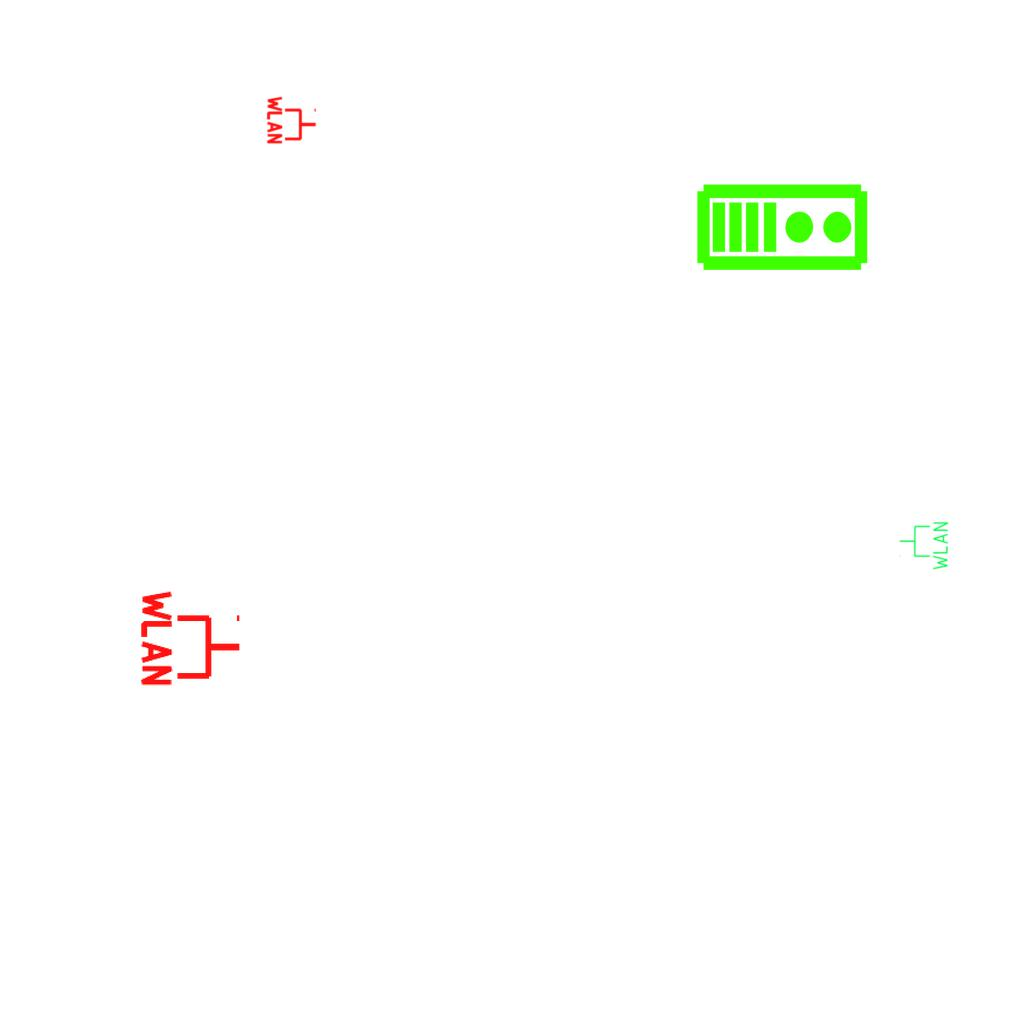Gegensprechanlage_mit_Video: (695, 178, 871, 273)
WLAN: (139, 586, 244, 690), (898, 520, 950, 572), (266, 94, 318, 146)
